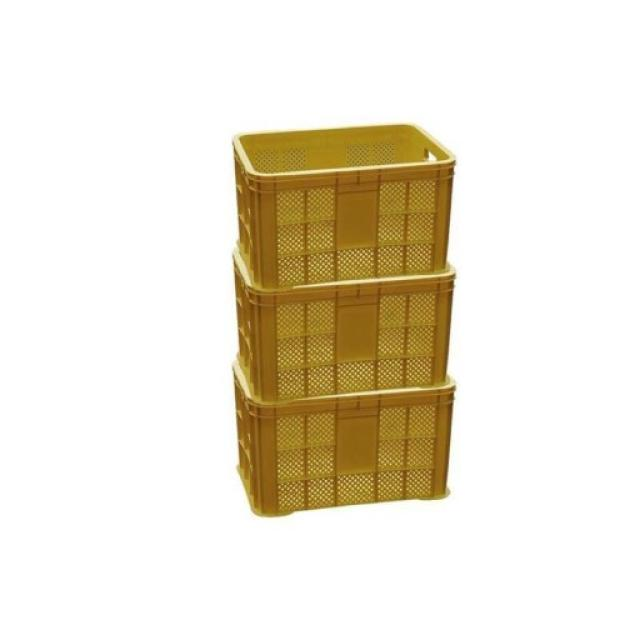basket: (233, 124, 459, 290), (225, 366, 455, 529), (226, 253, 455, 415)
